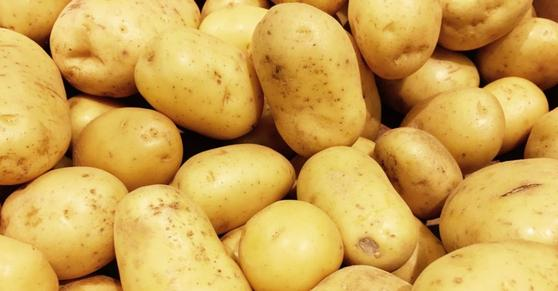potato: (292, 145, 433, 266), (254, 9, 371, 150), (109, 184, 234, 291), (1, 29, 77, 178), (175, 141, 299, 226), (444, 157, 558, 244)
